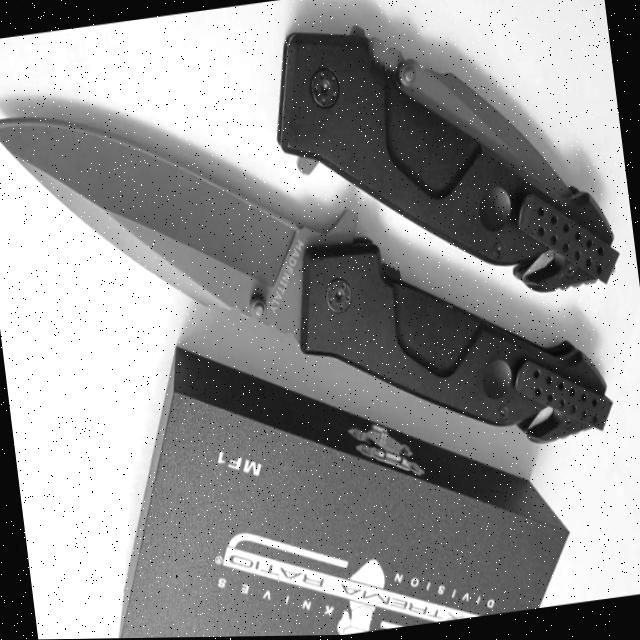knife: (0, 41, 616, 515), (264, 0, 624, 331)
